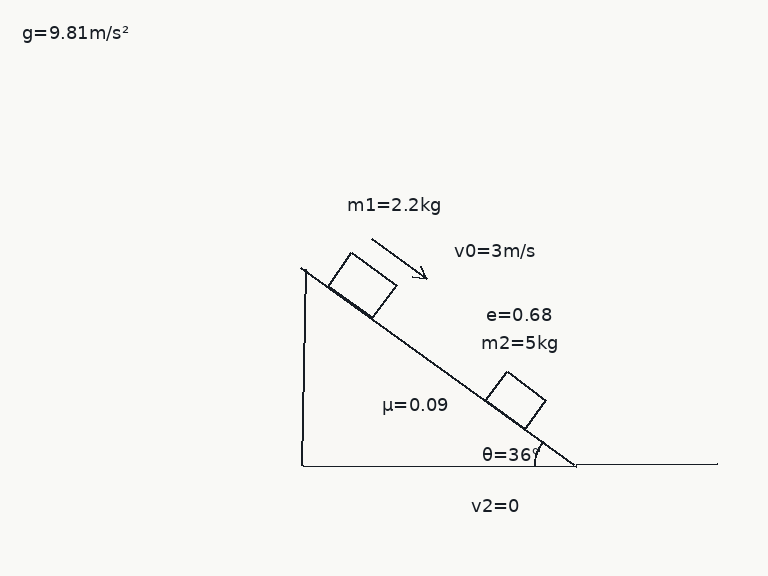block: (325, 250, 398, 320), (483, 369, 548, 431)
ramp: (301, 266, 577, 467)
